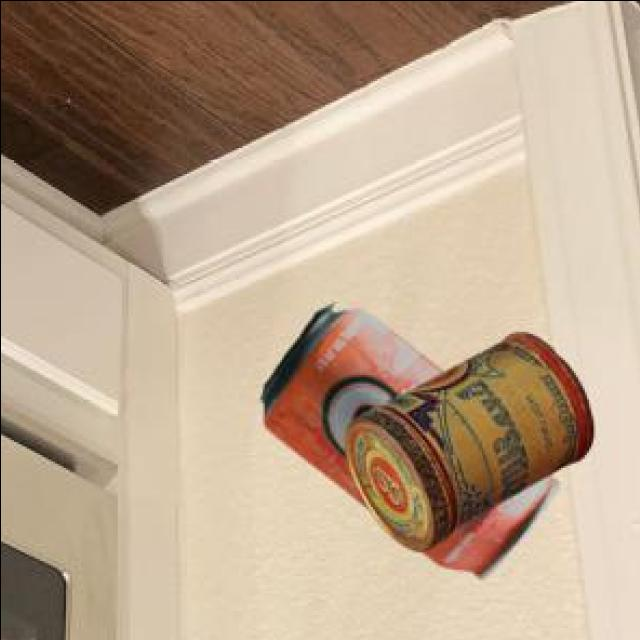logam: (256, 308, 555, 581), (341, 336, 589, 552)
